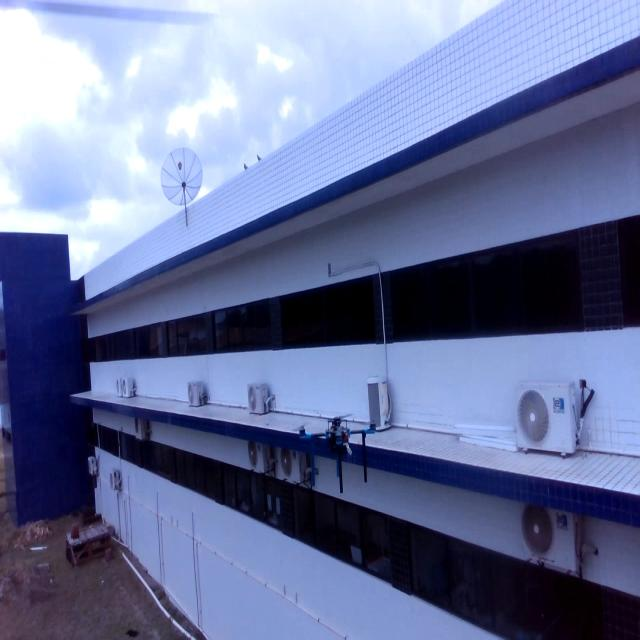-uav-: (292, 400, 382, 508)
